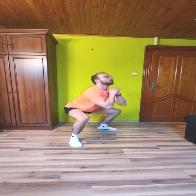squats: (49, 67, 128, 153)
